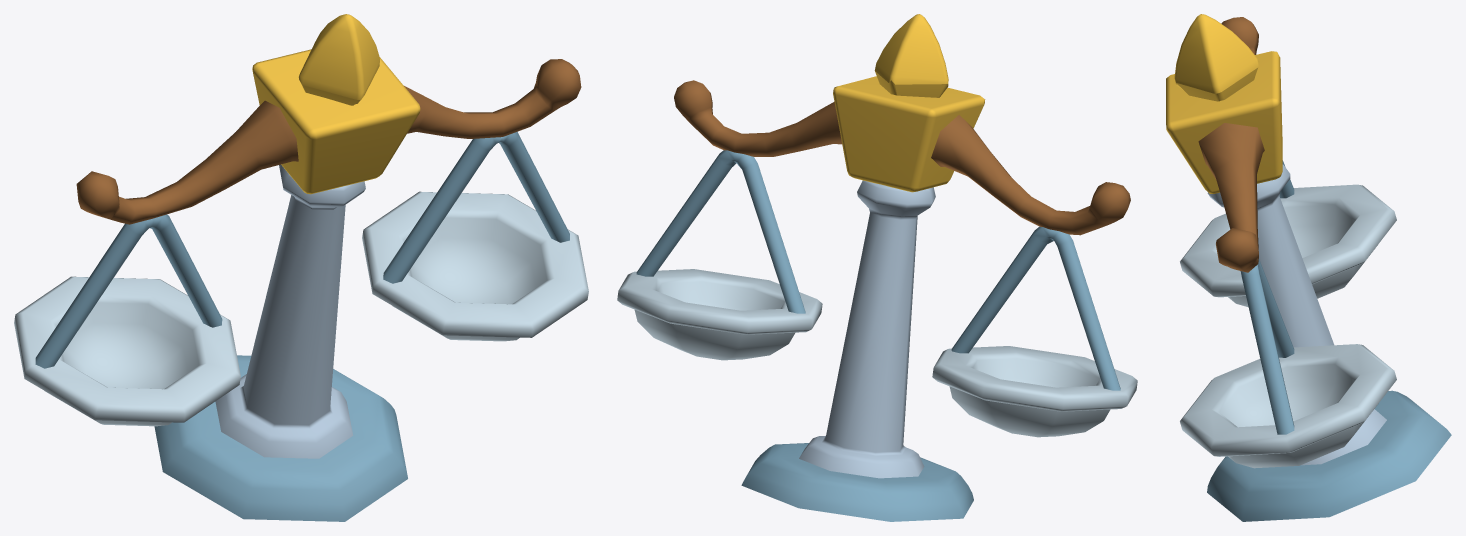
3 renders of one model, left to right at view 1: azimuth 30°, elevation 25°; view 2: azimuth 150°, elevation 25°; view 3: azimuth 270°, elevation 25°, orthographic. The views are drawn at different scales.
Parts seen in each view (by area): view 1: model_1.006; view 2: model_1.006; view 3: model_1.006.
Boxes of the visible parts, left/top/right/bottom form: model_1.006: left=14, top=14, right=588, bottom=521; model_1.006: left=617, top=14, right=1137, bottom=521; model_1.006: left=1166, top=14, right=1451, bottom=521.
Bounding box in the file's own units: 5.17 × 4.56 × 2.47.
